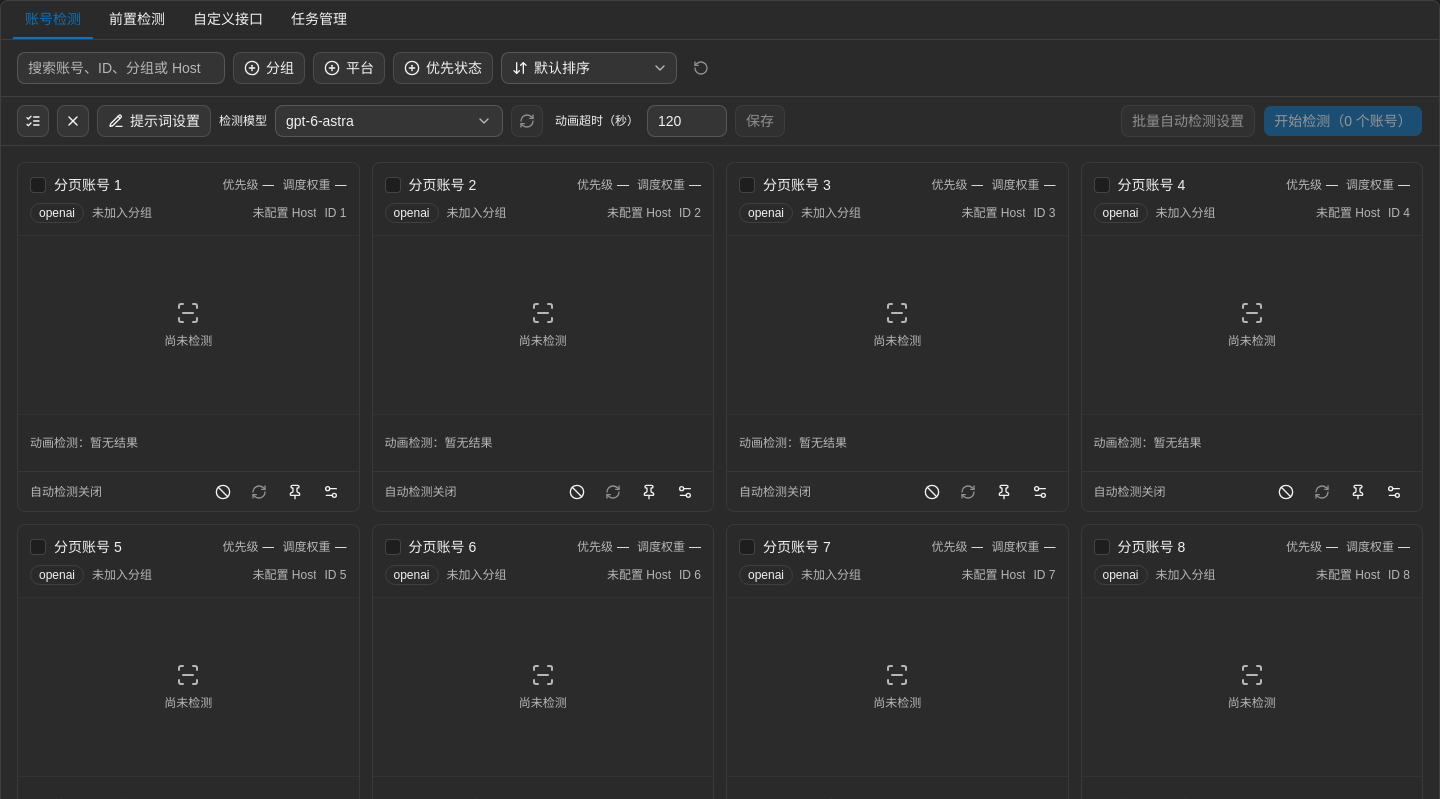
Test: 搜索后全选只选择当前筛选范围，空结果时禁用全选
The width and height of the screenshot is (1440, 799).
Type "分页账号 25" into the field named "搜索动画检测账号".
click(121, 68); type("分页账号 25")  # box [17,52,225,84]
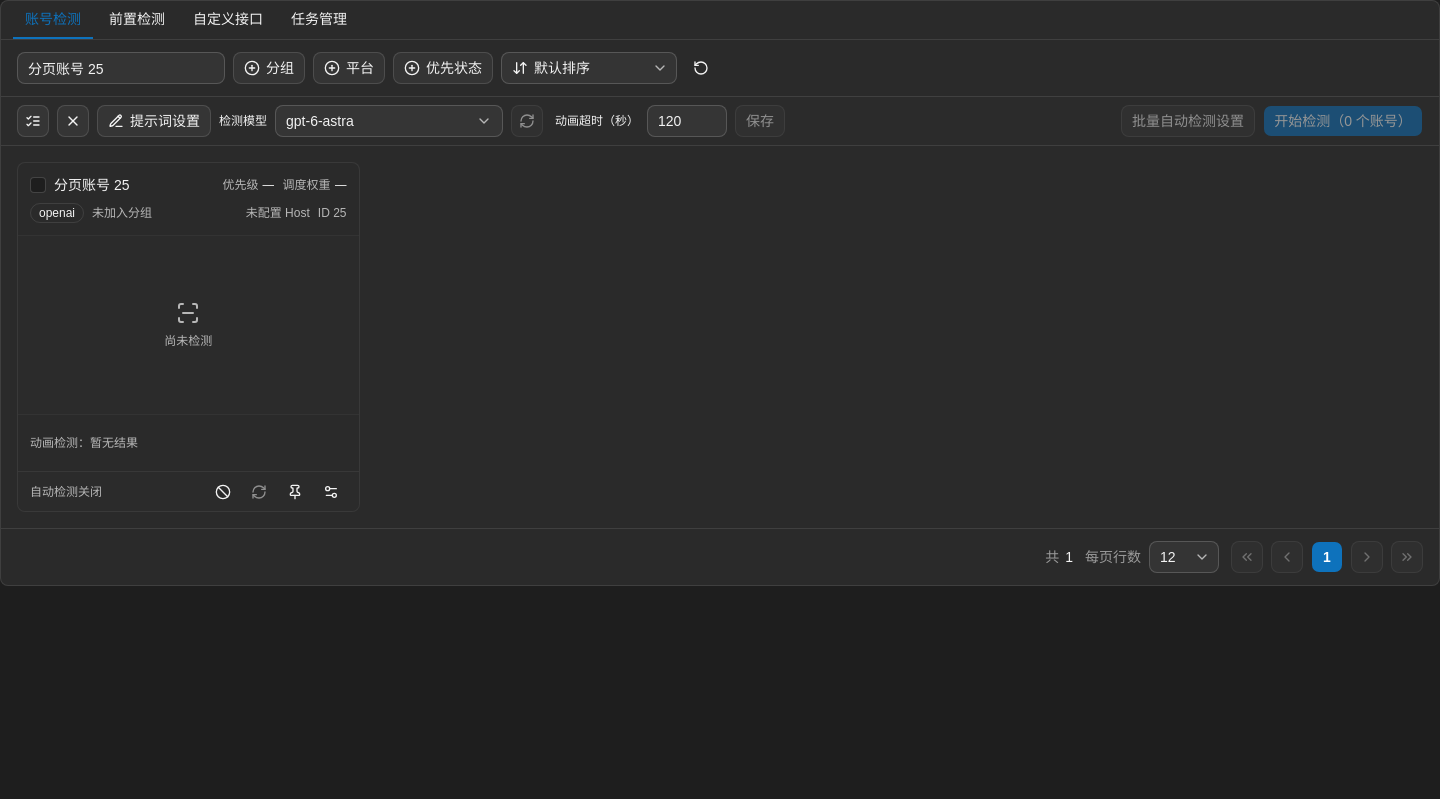
Click the button named "全选账号".
click(33, 121)  # box [17,105,49,137]
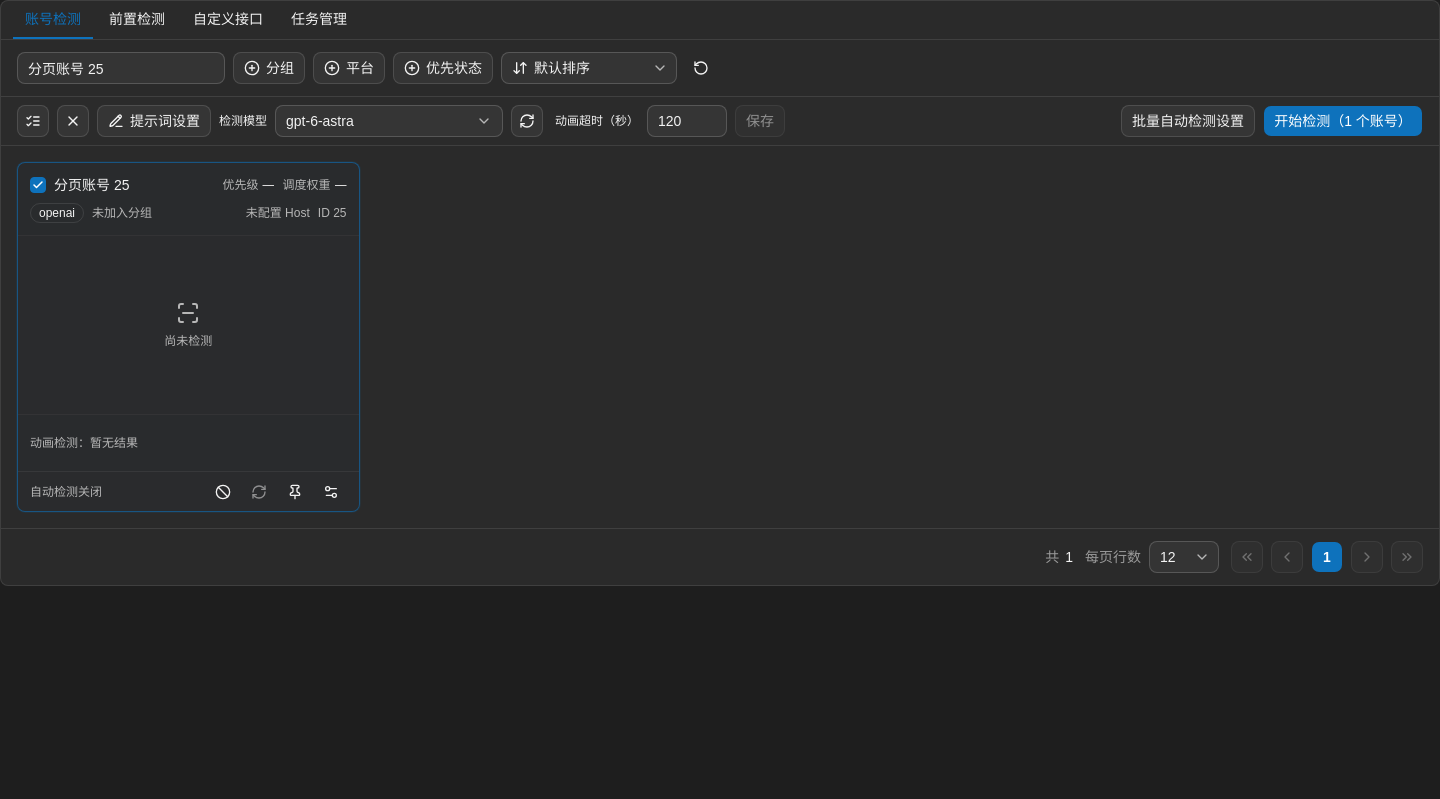
Result: the button "开始检测（1 个账号）" is enabled at [1263,105,1423,137]
Result: the checkbox named "检测 分页账号 25" is checked at [30,177,46,193]
Replace the text in the field named "搜索动画检测账号" with "没有此账号" at (121, 68), box [17,52,225,84]
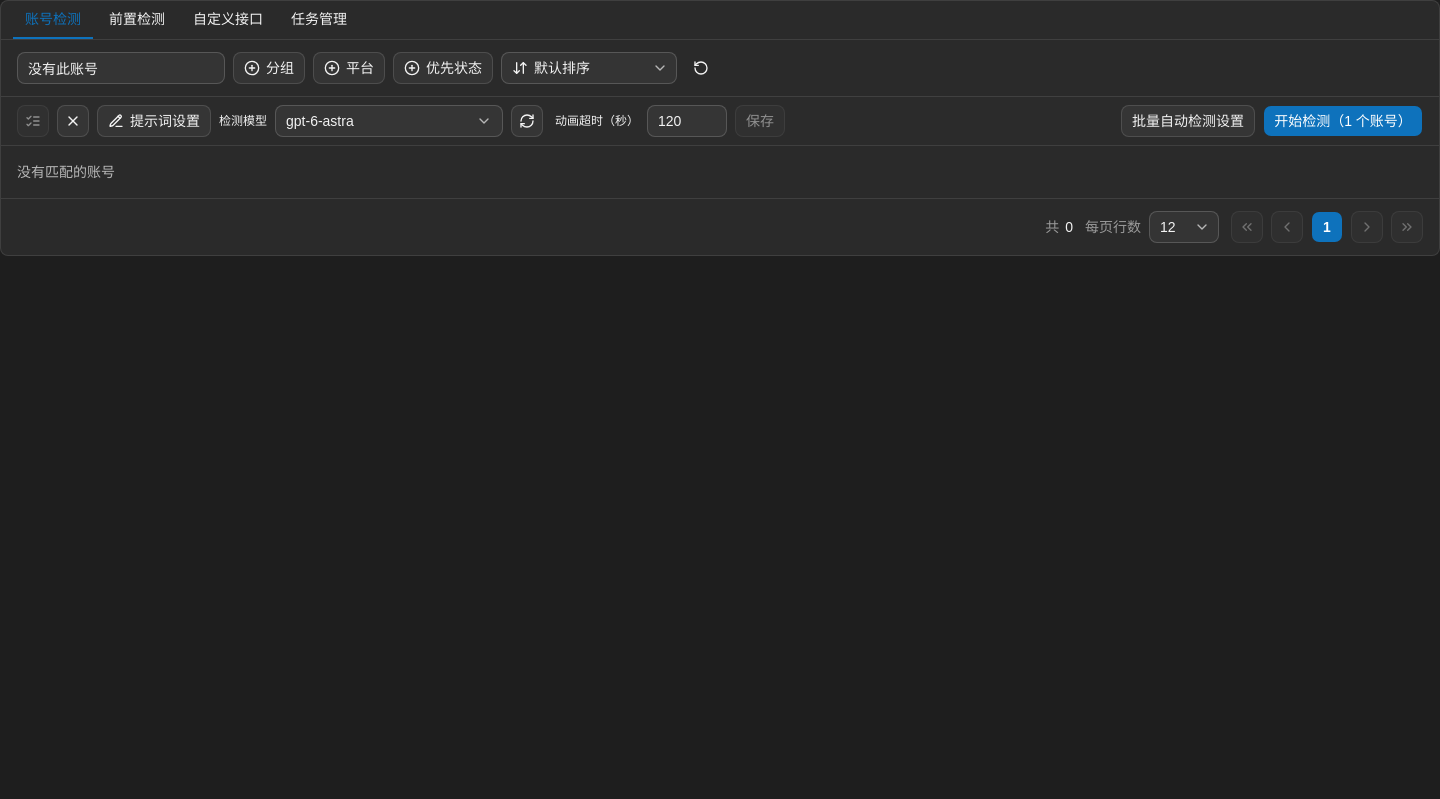
Result: the button named "全选账号" is disabled at [17,105,49,137]
